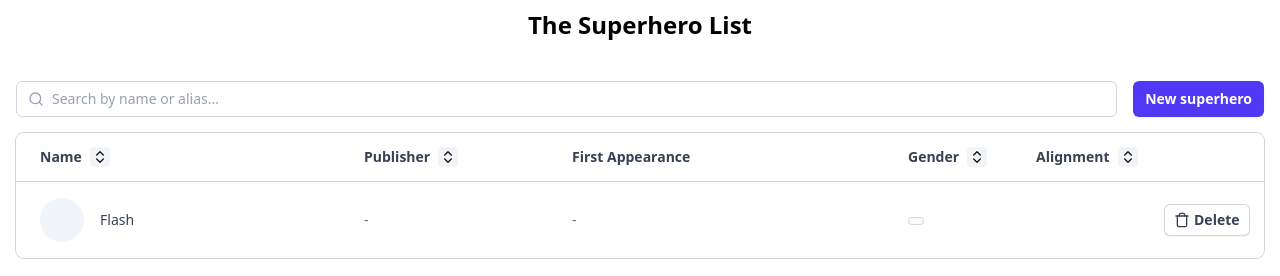
Scenario: deletes a hero after user confirmation
The image size is (1280, 276).
Expected: the text "Flash" is shown, [100,210,134,230]
Click the button "Delete".
click(1207, 220)  # box [1164,204,1250,236]
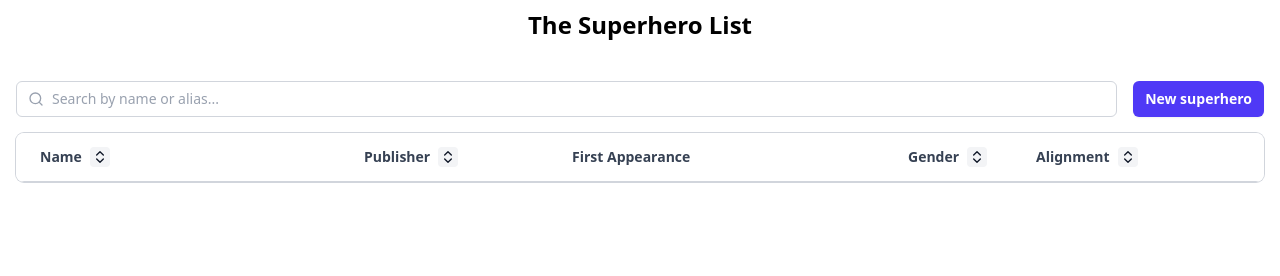
Expected: the text "Flash" is gone
